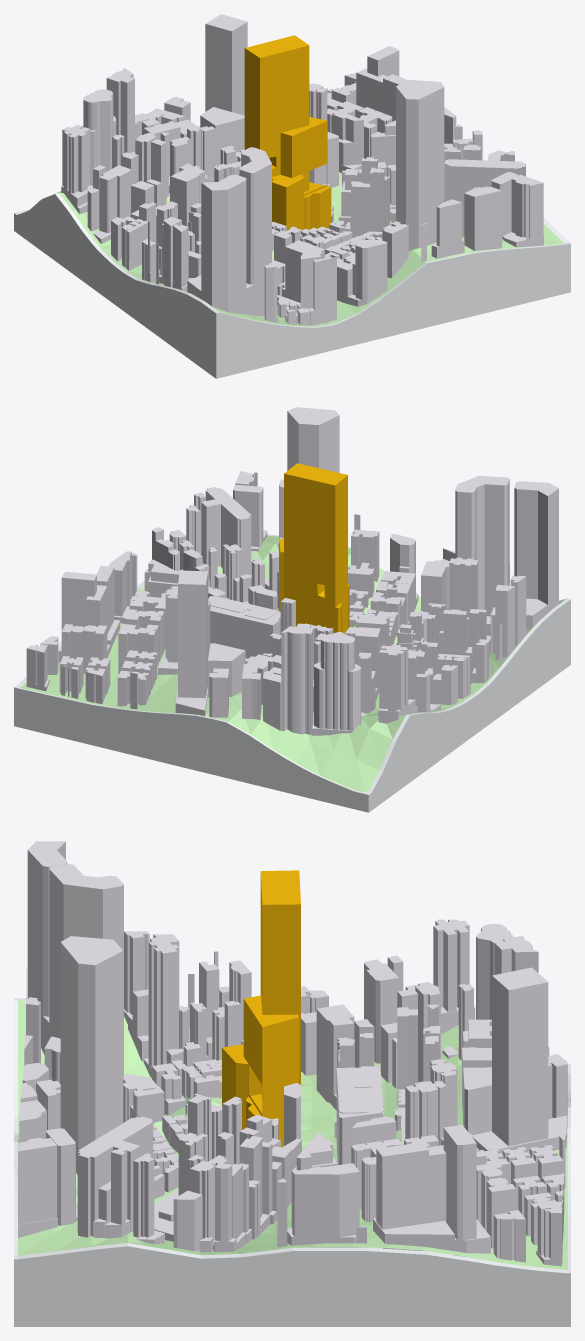
File: 白色加黃.glb
3 views of the same model, one above another, from view 1: azimuth 30°, elevation 25°; view 2: azimuth 150°, elevation 25°; view 3: azimuth 270°, elevation 25° (orthographic). The views are drawn at different scales.
Visible parts, largest first — view 1: Model, Group679, Group518, Group680, Group304, Group215, Group43, Group678, Group224, Group357, Group154, Group25 (+44 smaller); view 2: Model, Group678, Group680, Group679, Group215, Group304, Group43, Group636, Group518, Group357, Group172, Group82 (+45 smaller); view 3: Group679, Group518, Group678, Group43, Model, Group215, Group680, Group224, Group45, Group357, Group196, Group304 (+66 smaller).
Part boxes in pixels (bbox=[...]): Model: bbox=[14, 208, 570, 378]; Group679: bbox=[15, 193, 568, 372]; Group518: bbox=[396, 79, 444, 249]; Group680: bbox=[244, 35, 309, 176]; Group304: bbox=[201, 174, 246, 314]; Group215: bbox=[239, 147, 271, 315]; Group43: bbox=[205, 14, 247, 115]; Group678: bbox=[24, 165, 563, 326]; Group224: bbox=[280, 117, 327, 196]; Group357: bbox=[444, 154, 525, 234]; Group154: bbox=[464, 186, 502, 250]; Group25: bbox=[285, 240, 324, 308]; Model: bbox=[14, 534, 570, 812]; Group678: bbox=[20, 535, 564, 791]; Group680: bbox=[284, 463, 347, 633]; Group679: bbox=[15, 581, 569, 806]; Group215: bbox=[455, 475, 509, 616]; Group304: bbox=[514, 481, 558, 612]; Group43: bbox=[178, 570, 208, 698]; Group636: bbox=[281, 623, 313, 734]; Group518: bbox=[287, 407, 339, 472]; Group357: bbox=[201, 487, 251, 575]; Group172: bbox=[314, 662, 361, 730]; Group82: bbox=[208, 596, 280, 658]; Group679: bbox=[17, 998, 567, 1320]; Group518: bbox=[60, 936, 123, 1174]; Group678: bbox=[17, 1000, 567, 1269]; Group43: bbox=[492, 967, 548, 1146]; Model: bbox=[14, 998, 570, 1326]; Group215: bbox=[49, 864, 123, 1076]; Group680: bbox=[260, 870, 300, 1072]; Group224: bbox=[243, 995, 298, 1146]; Group45: bbox=[292, 1163, 359, 1247]; Group357: bbox=[77, 1116, 153, 1248]; Group196: bbox=[376, 1142, 428, 1229]; Group304: bbox=[27, 841, 67, 1050].
Size of the model in its own units: 32.52 by 19.52 by 32.11.
